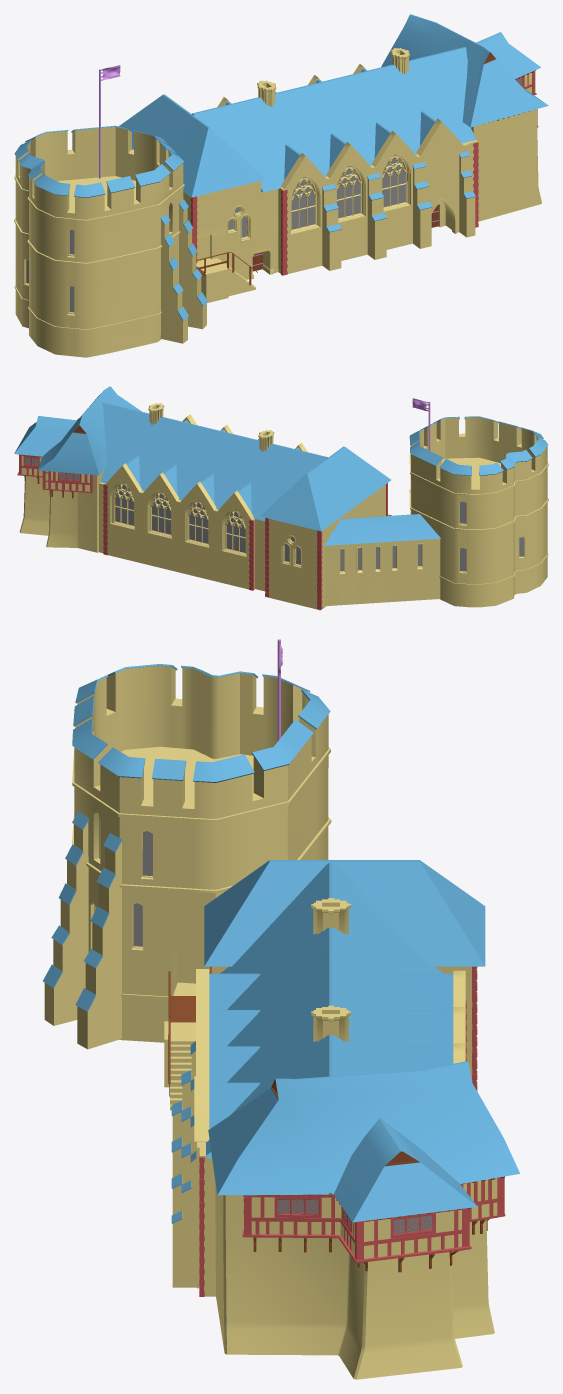
File: fangzi2.FBX
3 renders of one model, top to bottom at view 1: azimuth 30°, elevation 25°; view 2: azimuth 150°, elevation 25°; view 3: azimuth 270°, elevation 25°, orthographic. The views are drawn at different scales.
Visible parts, largest first — view 1: ManorMD_Stone_Stacked, ManorMD_RoofTiles, ManorMD_Glass, ManorMD_PlasterBrown, ManorMD_WoodDark; view 2: ManorMD_Stone_Stacked, ManorMD_RoofTiles, ManorMD_Glass, ManorMD_PlasterBrown, ManorMD_Wood_Beams, ManorMD_PlasterYellow; view 3: ManorMD_Stone_Stacked, ManorMD_RoofTiles, ManorMD_Wood_Beams, ManorMD_PlasterYellow, ManorMD_WoodDark, ManorMD_Glass, ManorMD_PlasterBrown.
Part boxes in pixels (x1,y1,x2,y2): ManorMD_Stone_Stacked: [14, 48, 541, 357]; ManorMD_RoofTiles: [14, 14, 548, 320]; ManorMD_Glass: [26, 77, 522, 312]; ManorMD_PlasterBrown: [191, 142, 478, 275]; ManorMD_WoodDark: [196, 52, 534, 285]; ManorMD_Stone_Stacked: [19, 403, 548, 610]; ManorMD_RoofTiles: [14, 386, 548, 545]; ManorMD_Glass: [25, 457, 523, 571]; ManorMD_PlasterBrown: [103, 483, 387, 609]; ManorMD_Wood_Beams: [17, 454, 92, 492]; ManorMD_PlasterYellow: [21, 455, 89, 491]; ManorMD_Stone_Stacked: [44, 665, 494, 1379]; ManorMD_RoofTiles: [43, 664, 520, 1223]; ManorMD_Wood_Beams: [242, 1177, 505, 1263]; ManorMD_PlasterYellow: [251, 1178, 497, 1258]; ManorMD_WoodDark: [168, 971, 504, 1272]; ManorMD_Glass: [133, 831, 432, 1233]; ManorMD_PlasterBrown: [199, 966, 477, 1296].
Size of the model in its own units: 50.91 by 19.67 by 22.68.
